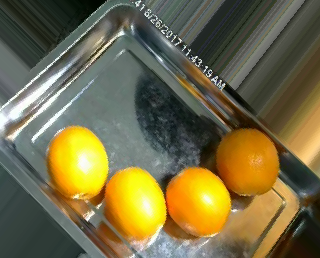Orange: (45, 124, 109, 200), (102, 165, 165, 240), (166, 166, 230, 237), (216, 127, 280, 196)
